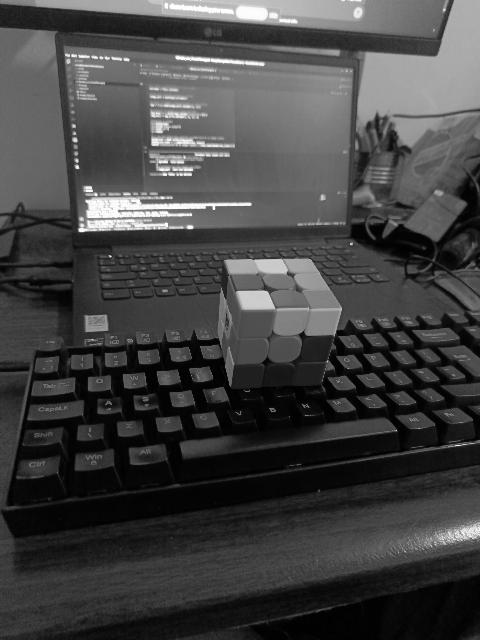rubik: (216, 255, 342, 389)
